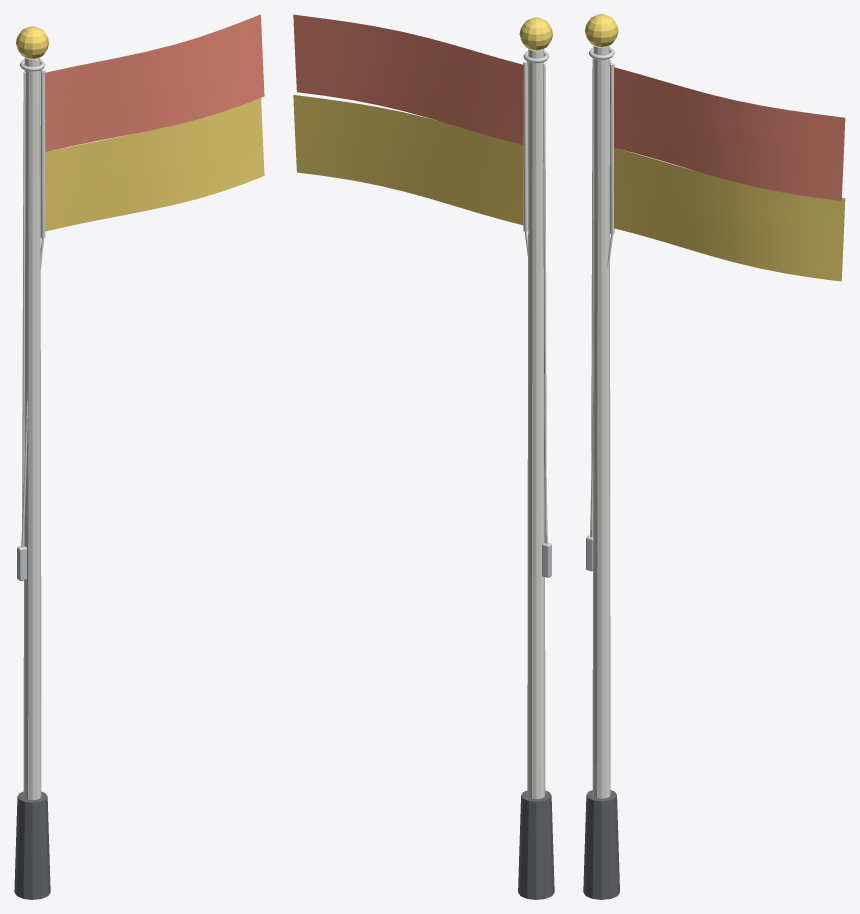
File: beach-surf-and-paddle-kit-patrol-flag-pole-30eed28d__39425.glb
3 views of the same model, side by side, from view 1: azimuth 30°, elevation 25°; view 2: azimuth 150°, elevation 25°; view 3: azimuth 330°, elevation 25° (orthographic).
Parts seen in each view (by area): view 1: patrol-flag-pole-sun, patrol-flag-pole-coral, patrol-flag-pole-foam, patrol-flag-pole-charcoal, patrol-flag-pole-steel; view 2: patrol-flag-pole-sun, patrol-flag-pole-coral, patrol-flag-pole-foam, patrol-flag-pole-charcoal; view 3: patrol-flag-pole-sun, patrol-flag-pole-coral, patrol-flag-pole-foam, patrol-flag-pole-charcoal.
Part boxes in pixels (<box>): patrol-flag-pole-sun: <box>16,26,264,231</box>; patrol-flag-pole-coral: <box>45,14,264,151</box>; patrol-flag-pole-foam: <box>21,57,45,800</box>; patrol-flag-pole-charcoal: <box>14,791,50,899</box>; patrol-flag-pole-steel: <box>17,59,45,580</box>; patrol-flag-pole-sun: <box>293,17,552,224</box>; patrol-flag-pole-coral: <box>293,14,523,144</box>; patrol-flag-pole-foam: <box>523,48,547,799</box>; patrol-flag-pole-charcoal: <box>518,790,554,899</box>; patrol-flag-pole-sun: <box>585,14,845,281</box>; patrol-flag-pole-coral: <box>614,67,845,200</box>; patrol-flag-pole-foam: <box>590,45,614,798</box>; patrol-flag-pole-charcoal: <box>583,790,619,899</box>.
Size of the model in its own units: 0.955 by 3.16 by 0.12.
